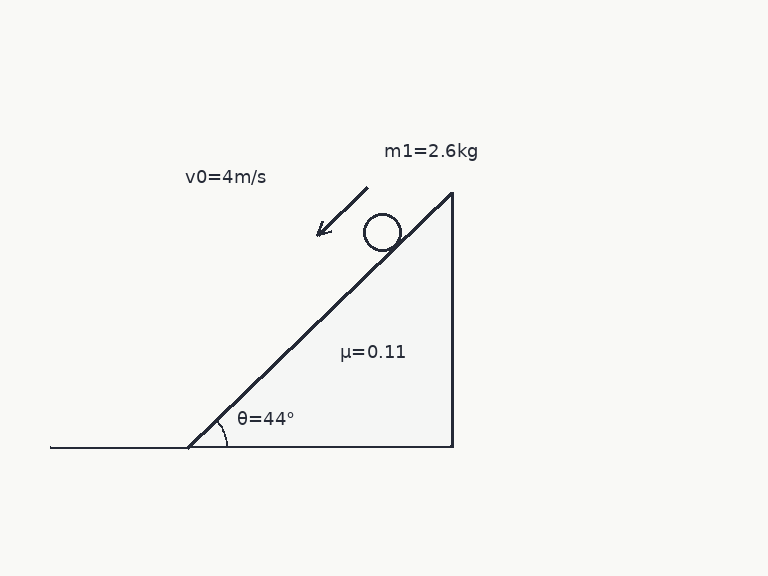ball: (361, 211, 403, 253)
ramp: (185, 190, 453, 449)
